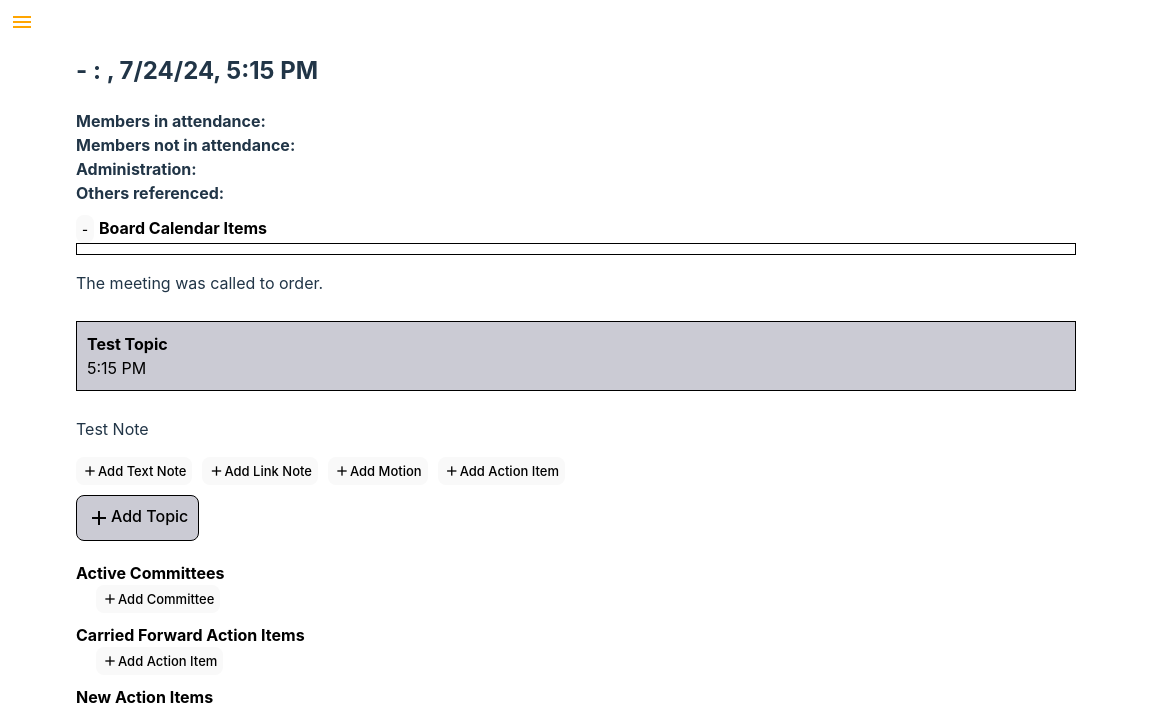
Scenario: text notes › allows editing the text of the note
Hover over the text "Test Note" at coordinates (112, 429), box [76,419,149,439]
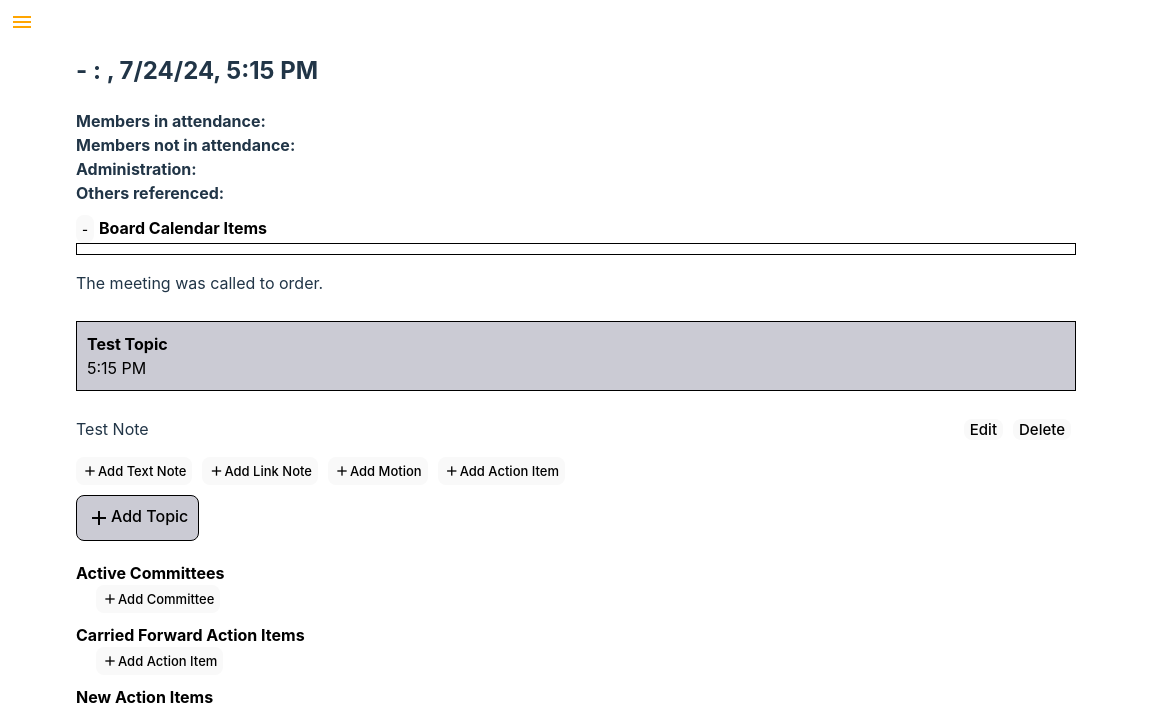
Click the button "Edit" at coordinates (983, 430), box [964,419,1003,440]
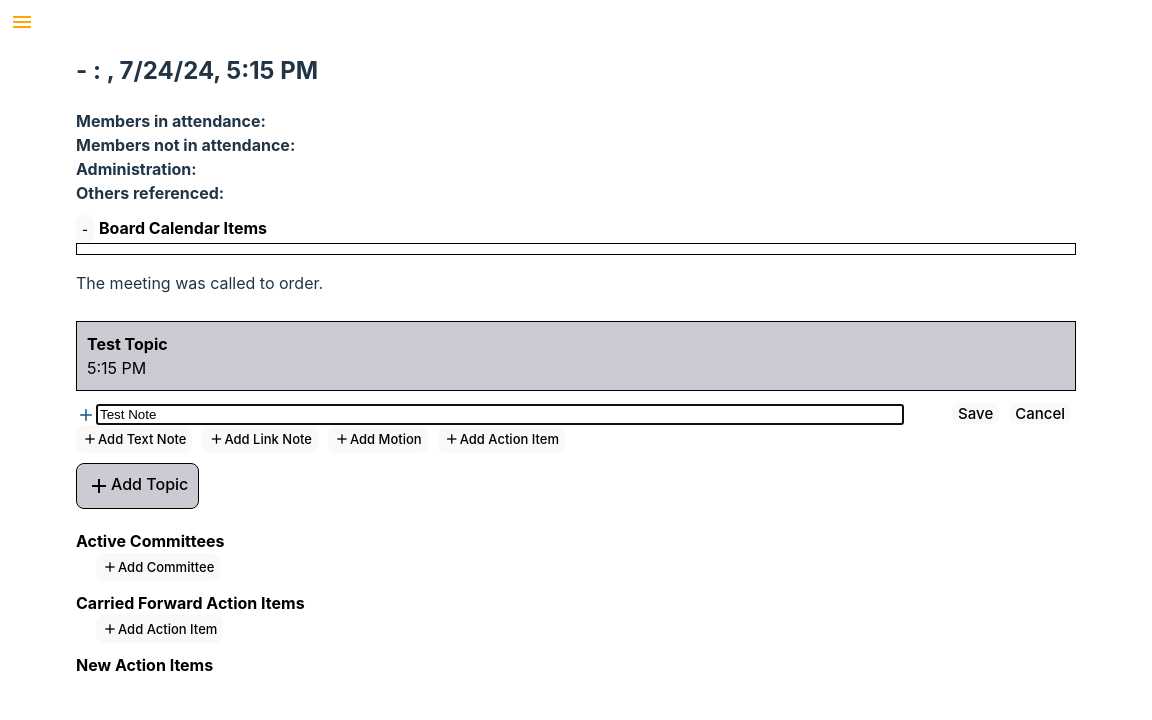
Type " edited" into the field named "Text" at coordinates (500, 415), box [96,404,904,425]
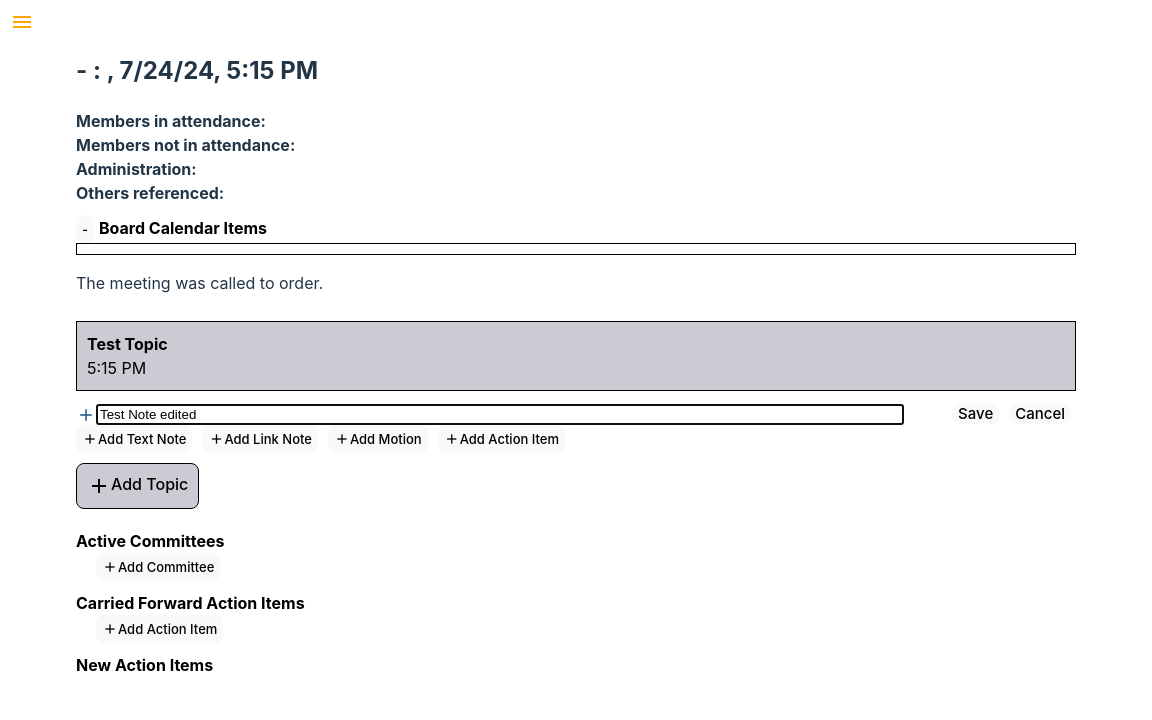
Click the button "Save" at coordinates (976, 414), box [952,403,999,424]
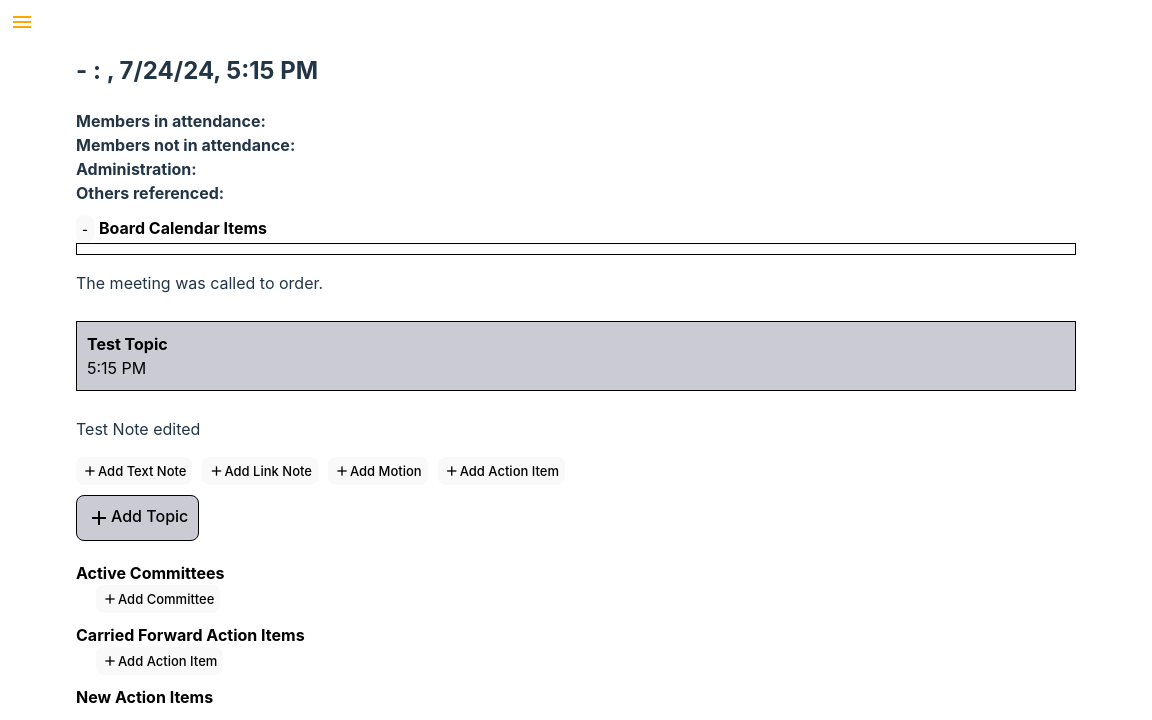
Expected: the text "Test Note edited" is shown, [76,419,200,439]
